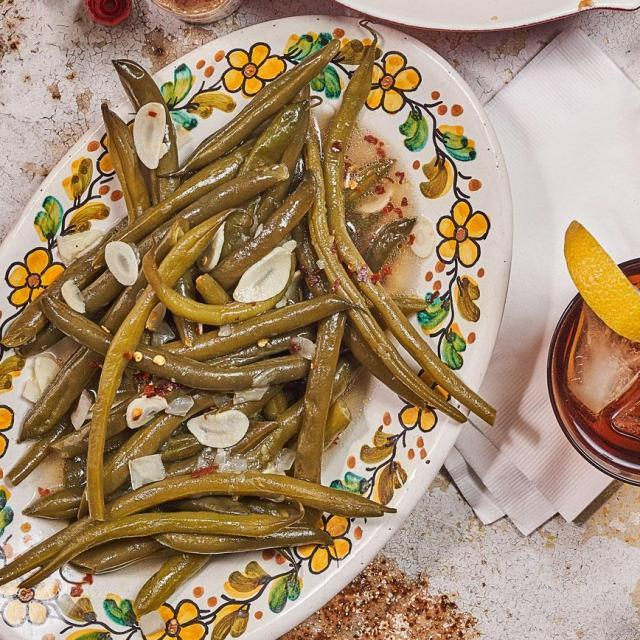Beans: (0, 39, 468, 609)
